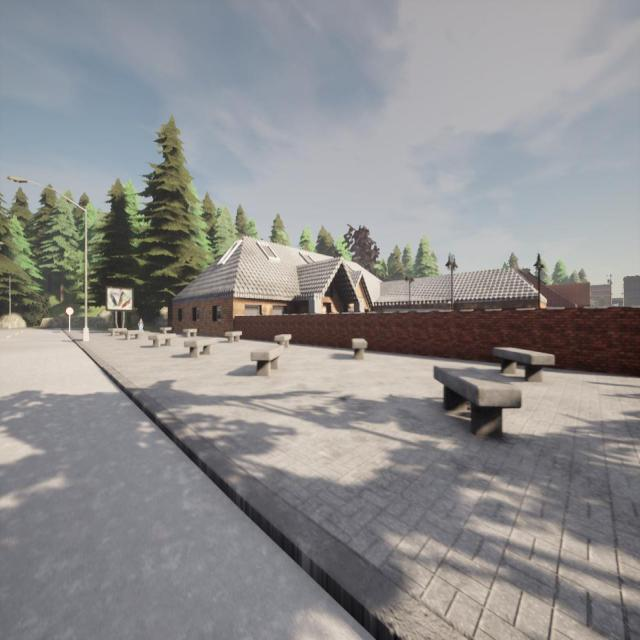Pedestrian: (137, 317, 144, 330)
Traffic_Signs: (65, 306, 74, 316)
